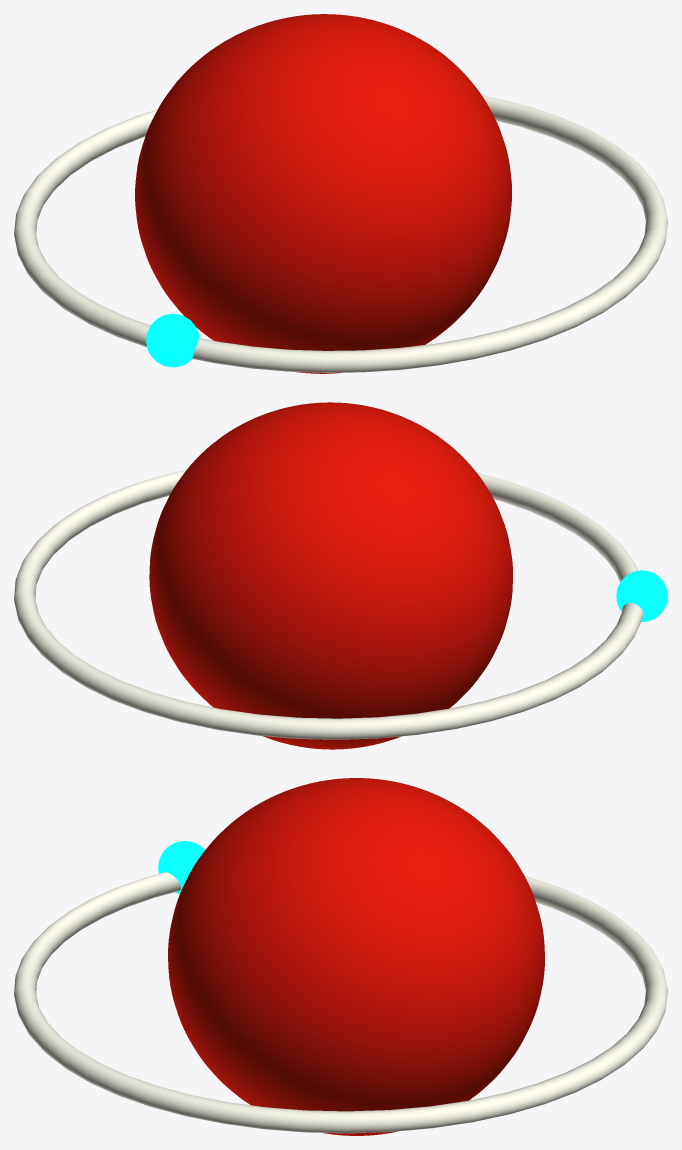
File: HYDROGEN 2.fbx
3 renders of one model, top to bottom at view 1: azimuth 30°, elevation 25°; view 2: azimuth 150°, elevation 25°; view 3: azimuth 270°, elevation 25°, orthographic. The views are drawn at different scales.
Parts seen in each view (by area): view 1: Sphere 15, left.005, Sphere.002; view 2: Sphere 15, left.005, Sphere.002; view 3: Sphere 15, left.005, Sphere.002.
Boxes of the visible parts, x1,y1,x2,y2 form: Sphere 15: [135, 14, 511, 373]; left.005: [14, 95, 667, 372]; Sphere.002: [146, 313, 199, 367]; Sphere 15: [149, 402, 512, 749]; left.005: [14, 470, 642, 739]; Sphere.002: [616, 570, 667, 621]; Sphere 15: [168, 778, 544, 1135]; left.005: [14, 872, 667, 1133]; Sphere.002: [158, 841, 204, 893].
Bounding box in the file's own units: 414 × 224 × 413.
